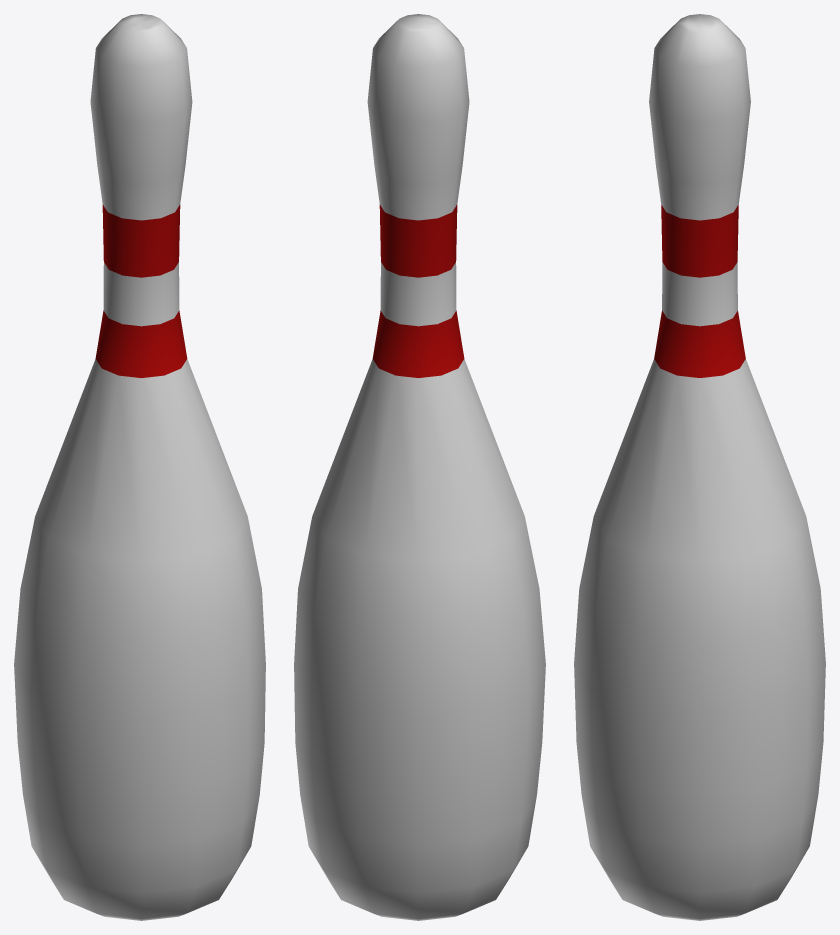
File: BowlingPinM.fbx
3 views of the same model, side by side, from view 1: azimuth 30°, elevation 25°; view 2: azimuth 150°, elevation 25°; view 3: azimuth 270°, elevation 25° (orthographic).
Parts seen in each view (by area): view 1: BowlingPin; view 2: BowlingPin; view 3: BowlingPin.
Boxes of the visible parts, x1,y1,x2,y2 form: BowlingPin: [14, 14, 265, 920]; BowlingPin: [294, 14, 545, 920]; BowlingPin: [574, 14, 825, 920].
Size of the model in its own units: 0.2785 by 1.07 by 0.2785.
